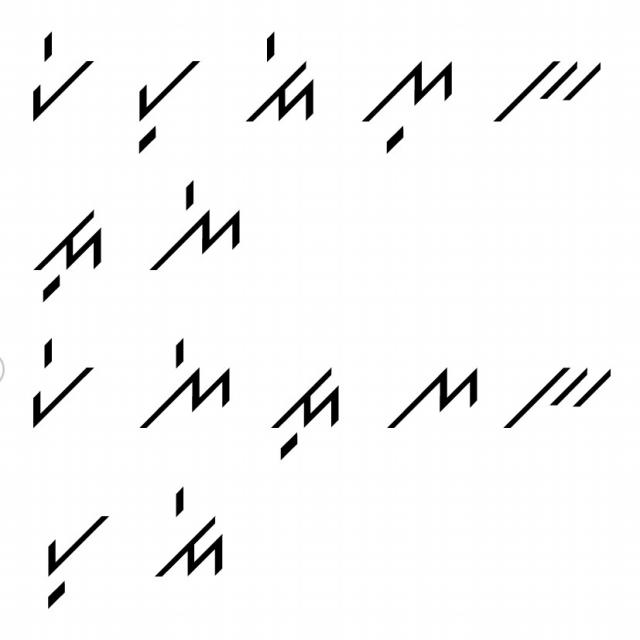de: (152, 480, 237, 589), (246, 27, 324, 135)
du: (261, 356, 342, 463), (24, 210, 114, 306)
na: (390, 348, 484, 441)
ne: (127, 332, 234, 435), (148, 176, 244, 282)
nu: (358, 44, 460, 160)
pe: (17, 325, 98, 429), (29, 30, 96, 123)
pu: (24, 495, 116, 613), (124, 42, 206, 160)
